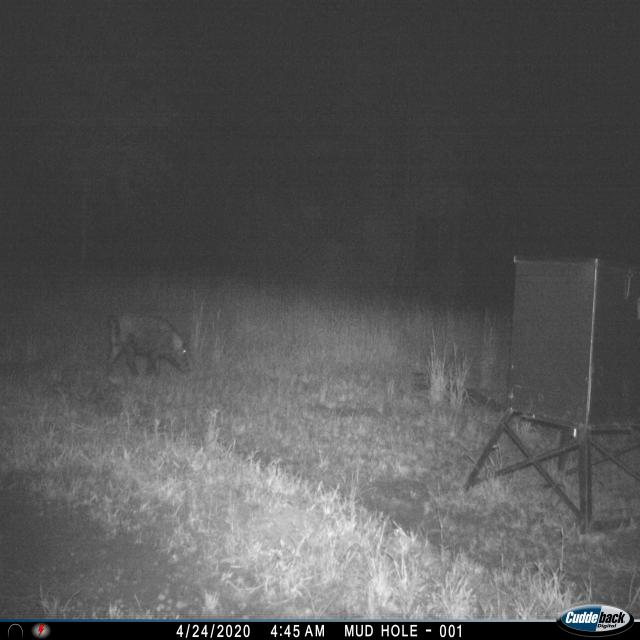wild boar: (104, 306, 194, 390)
